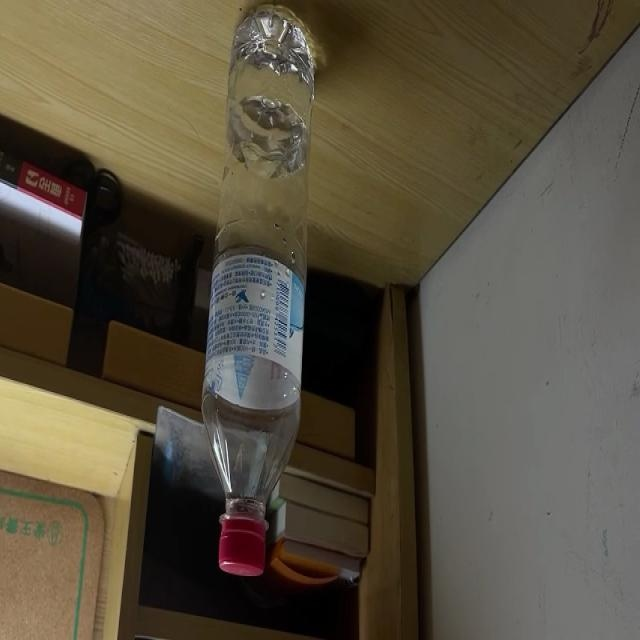Water: (203, 6, 314, 578)
